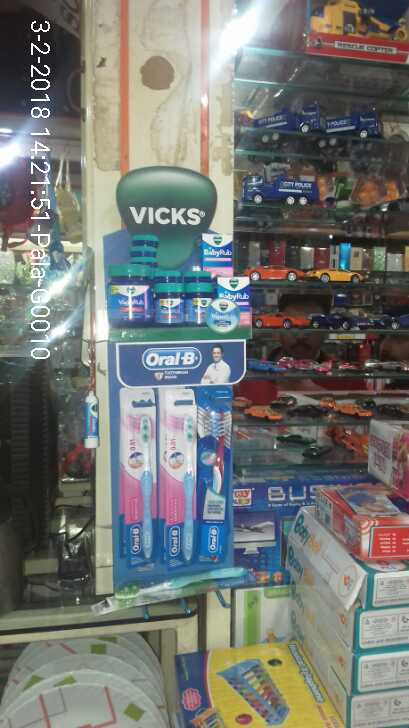pharmacy: (111, 388, 162, 565), (165, 395, 201, 565), (204, 400, 230, 564), (104, 265, 156, 330), (82, 382, 111, 451), (185, 283, 219, 332), (223, 277, 255, 329), (157, 264, 183, 327), (201, 227, 238, 268), (123, 224, 164, 261)
